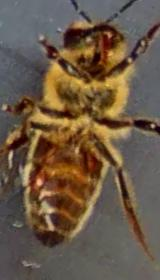varroa_mite: (24, 159, 53, 200), (81, 136, 101, 178)
